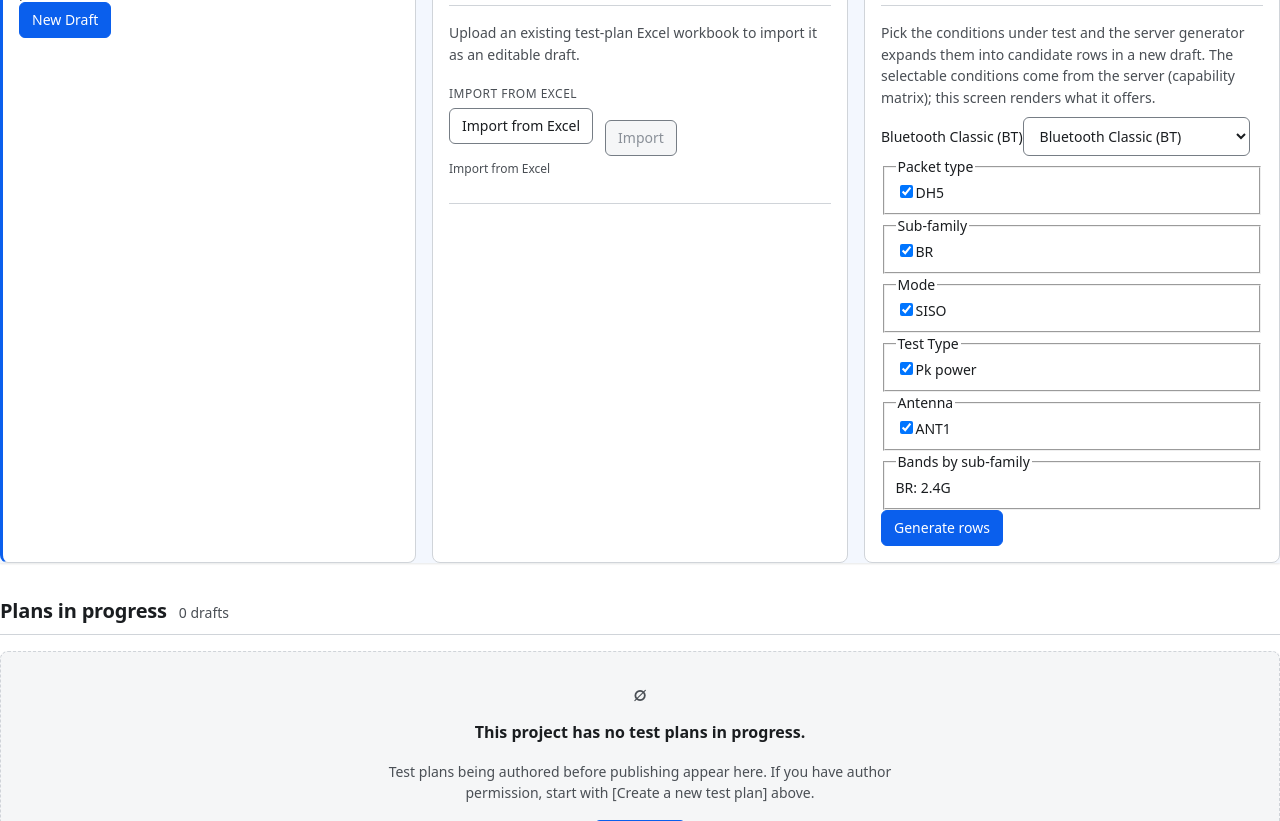
Test: current generation API cutover › localizes metadata failure status without exposing its server token
(page scrolled)
Check: the form with test id "test-plans-generator-form" is shown, box [881,117,1263,546]
Click the button with test id "test-plans-generator-submit" at (942, 528), box [881,510,1003,546]
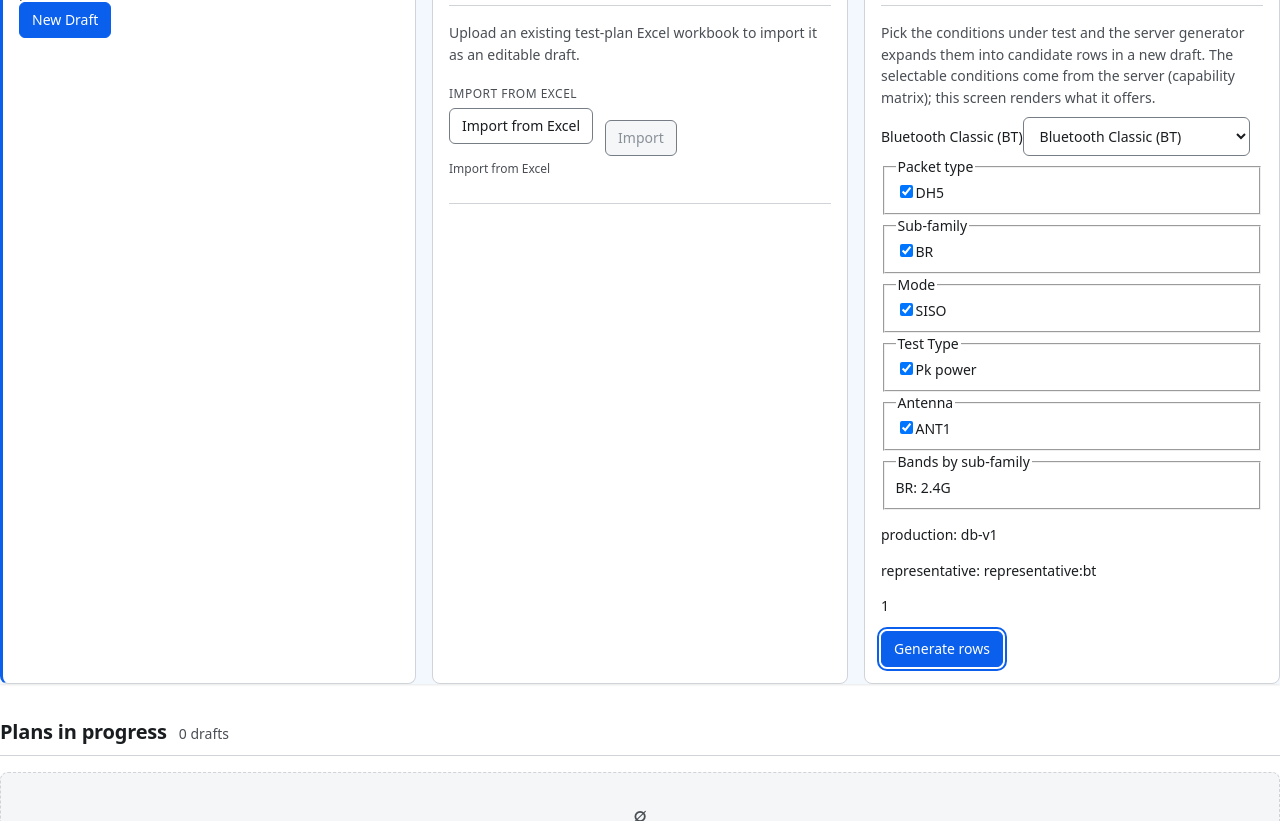
Check: the element with test id "test-plans-generator-preview" is shown, box [881,525,1096,615]
Click the button with test id "test-plans-generator-submit" at (942, 649), box [881,631,1003,667]
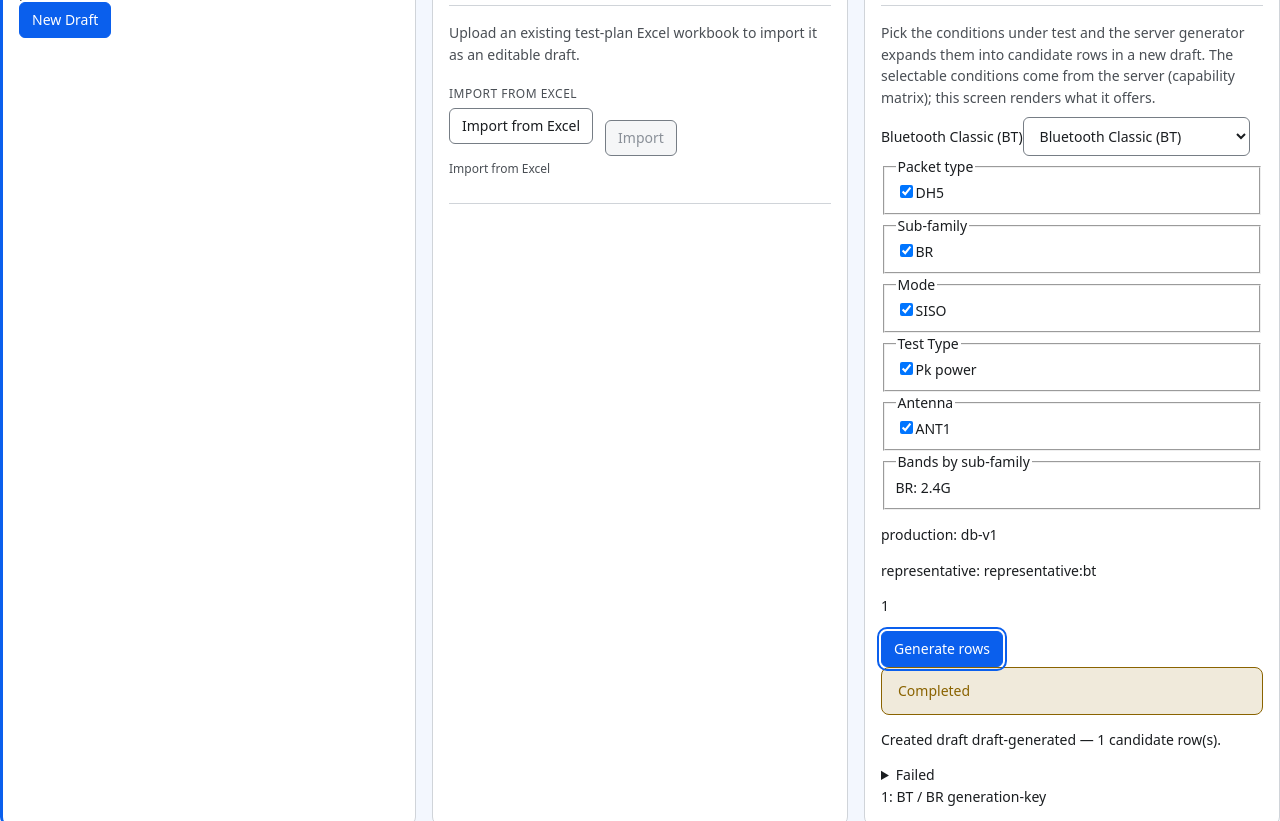
Check: the heading with test id "test-plans-generator-metadata-status" does not show "failed", box [896,765,935,784]
Check: the heading with test id "test-plans-generator-metadata-status" reads "Failed", box [896,765,935,784]
